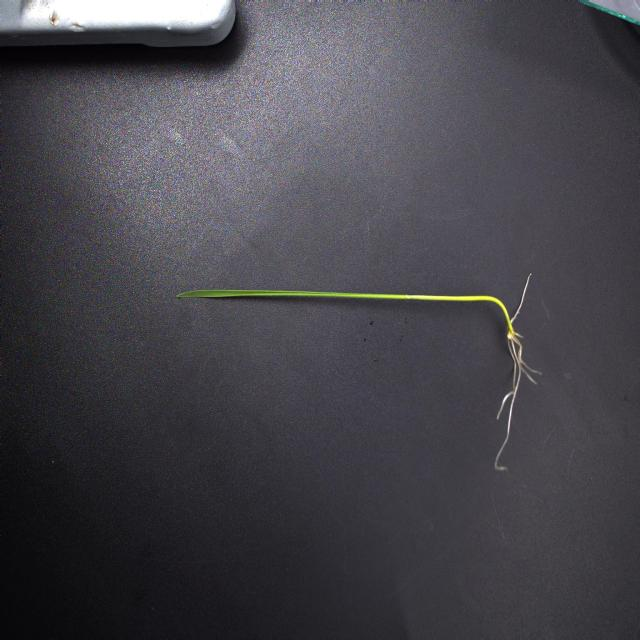leaf: (174, 286, 405, 302)
root: (491, 272, 543, 476)
steb: (400, 293, 515, 332)
